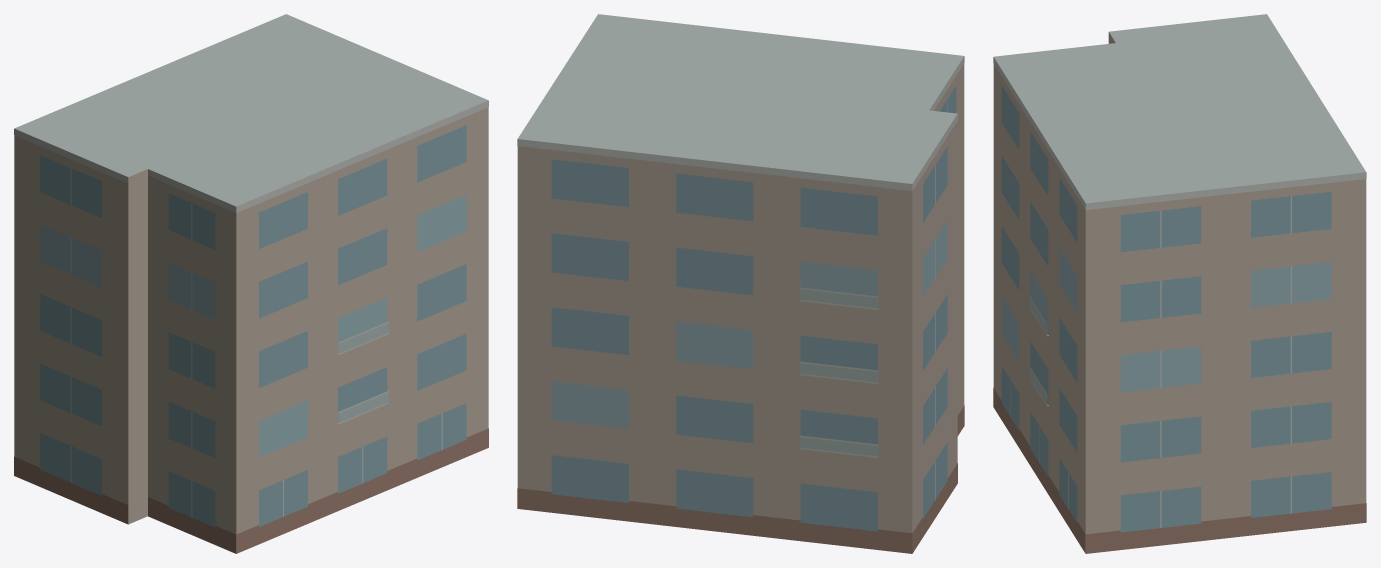
File: survey-upis-32974374.glb
3 views of the same model, side by side, from view 1: azimuth 30°, elevation 25°; view 2: azimuth 150°, elevation 25°; view 3: azimuth 270°, elevation 25° (orthographic). The views are drawn at different scales.
Parts seen in each view (by area): view 1: survey-upis-32974374.tmp; view 2: survey-upis-32974374.tmp; view 3: survey-upis-32974374.tmp.
Boxes of the visible parts, left/top/right/bottom form: survey-upis-32974374.tmp: left=14, top=14, right=488, bottom=553; survey-upis-32974374.tmp: left=517, top=14, right=964, bottom=553; survey-upis-32974374.tmp: left=993, top=14, right=1366, bottom=553.
Bounding box in the file's own units: 14.97 × 12.9 × 12.46.
